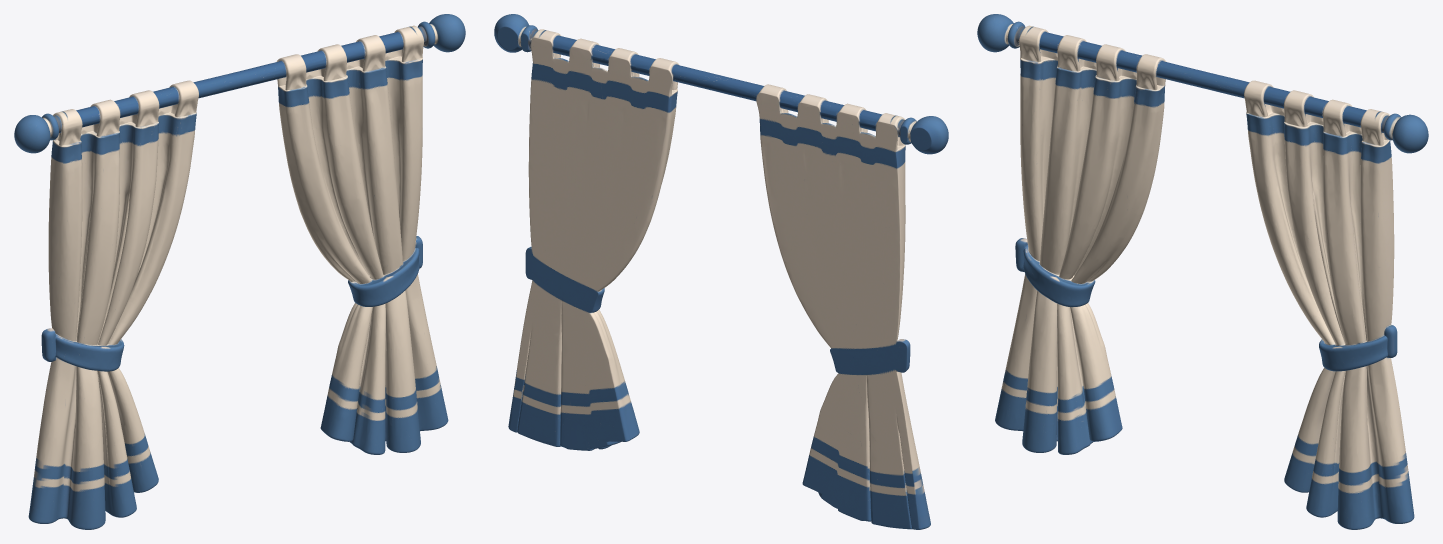
File: Meshy_AI_Blue_Cream_Curtains_1021043836_texture.fbx
The picture shows the model from 3 angles, left to right: view 1: azimuth 30°, elevation 25°; view 2: azimuth 150°, elevation 25°; view 3: azimuth 330°, elevation 25°; orthographic projection.
Parts seen in each view (by area): view 1: Mesh_0; view 2: Mesh_0; view 3: Mesh_0.
Boxes of the visible parts, box(x1,y1,x2,y2) form: Mesh_0: box(14, 14, 465, 529); Mesh_0: box(494, 14, 948, 529); Mesh_0: box(977, 14, 1428, 529).
Size of the model in its own units: 190 by 169 by 15.77.
1 material, 1 textured.
